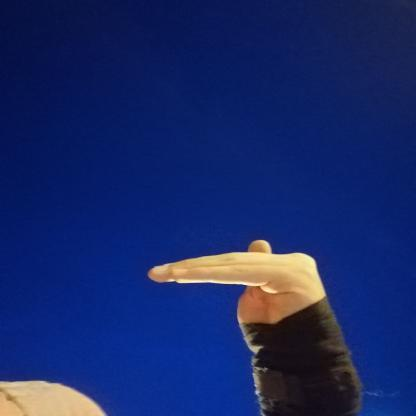KHAA: (134, 229, 358, 361)
